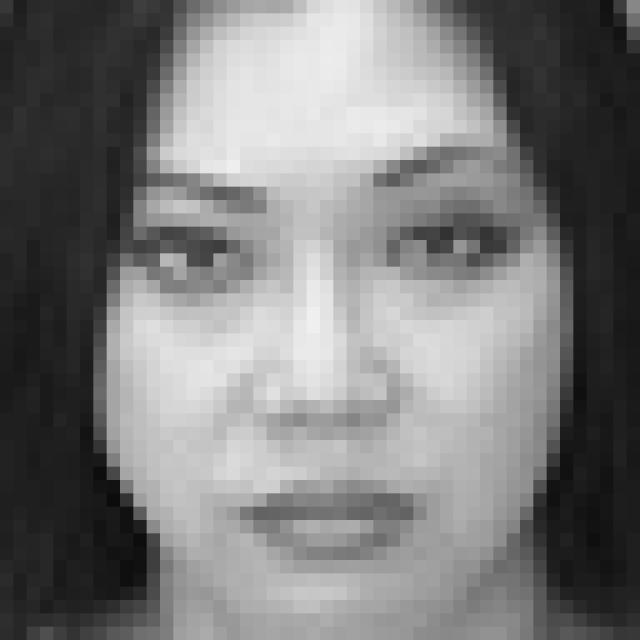neutral: (131, 134, 528, 574)
